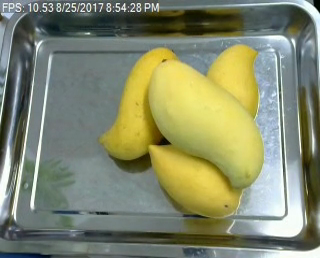Mango: (147, 58, 264, 188), (99, 47, 178, 163), (146, 144, 242, 217), (207, 44, 258, 118)
